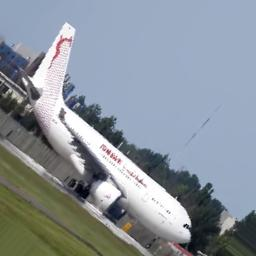Airplane: (19, 22, 193, 244)
